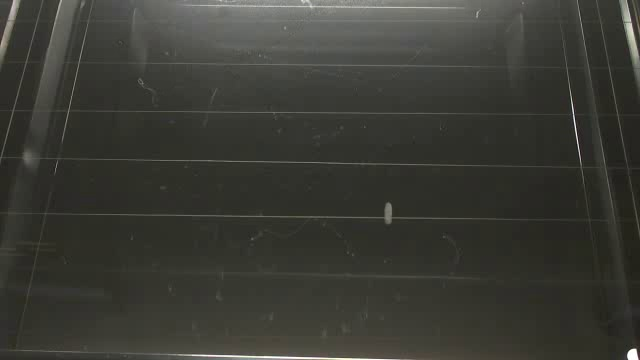Alfa: (380, 199, 393, 227)
